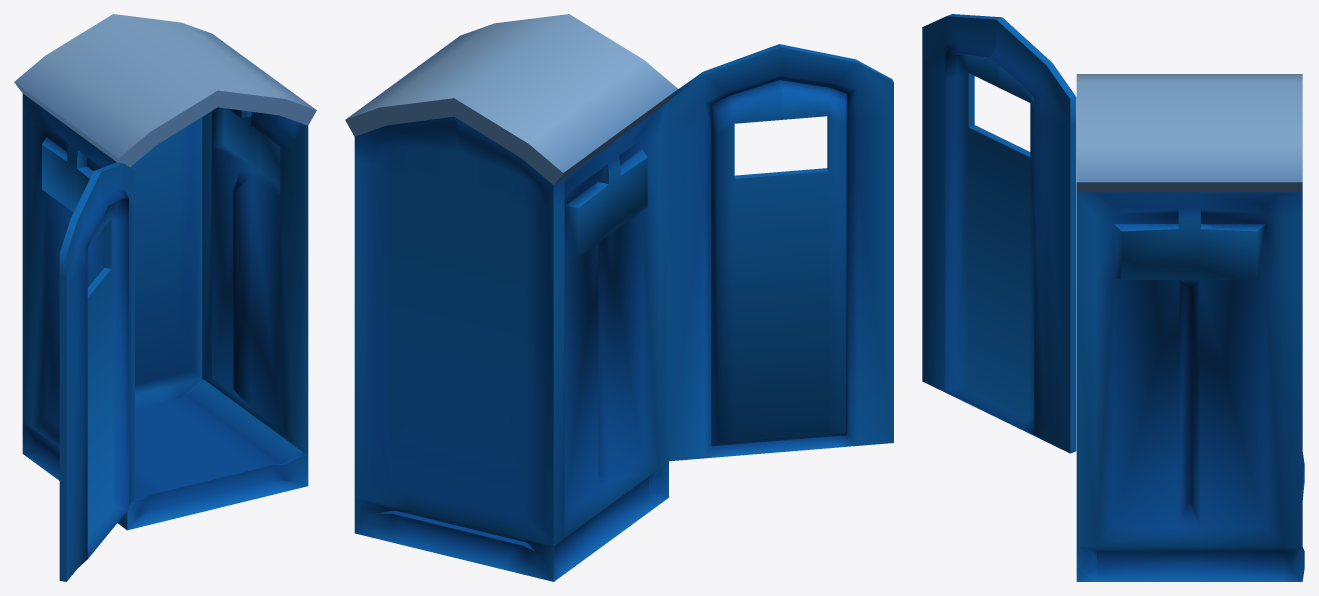
File: PortaPotty_Open.fbx
3 views of the same model, side by side, from view 1: azimuth 30°, elevation 25°; view 2: azimuth 150°, elevation 25°; view 3: azimuth 270°, elevation 25° (orthographic). The views are drawn at different scales.
Visible parts, largest first — view 1: PortaPotty_Open; view 2: PortaPotty_Open; view 3: PortaPotty_Open.
Part boxes in pixels (<box>): PortaPotty_Open: <box>14,14,316,581</box>; PortaPotty_Open: <box>345,14,893,581</box>; PortaPotty_Open: <box>922,14,1304,581</box>.
Size of the model in its own units: 217 by 265 by 204.
